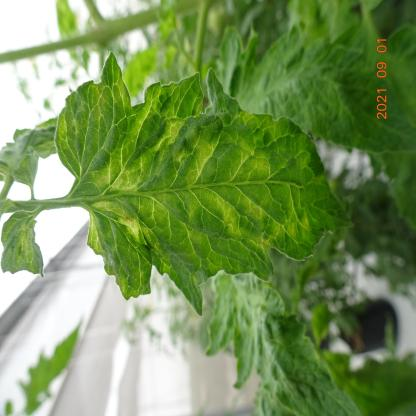T_L_R: (79, 75, 347, 312), (56, 55, 132, 183)
